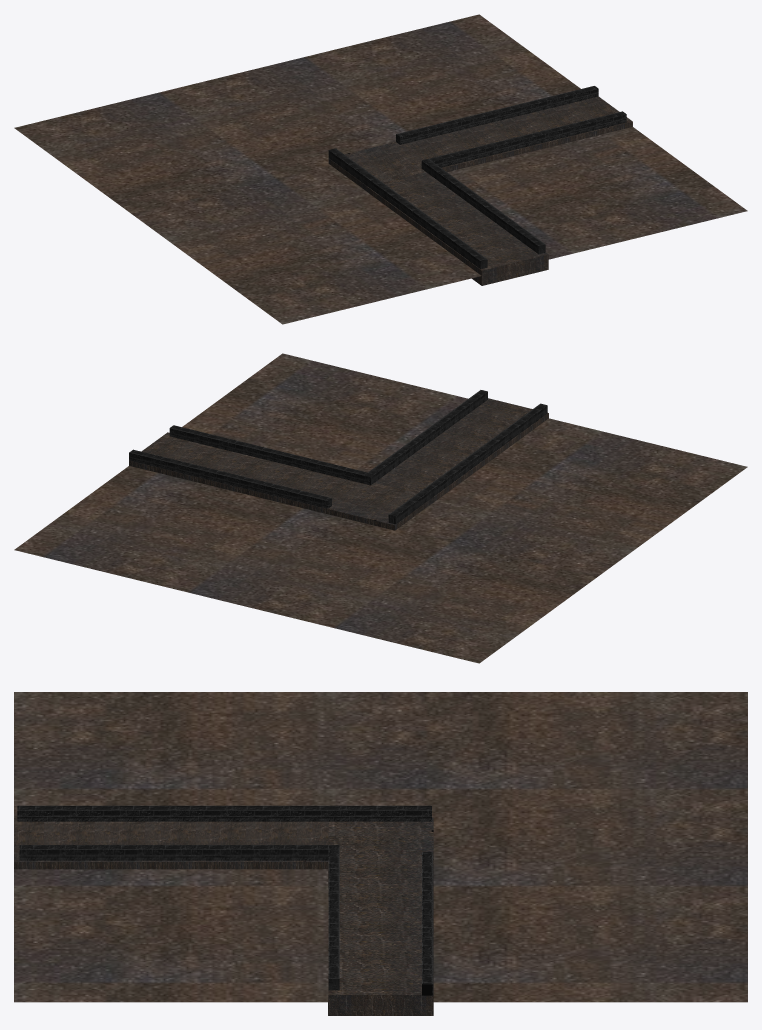
The model's file is left_tile.fbx.
3 views of the same model, one above another, from view 1: azimuth 30°, elevation 25°; view 2: azimuth 150°, elevation 25°; view 3: azimuth 270°, elevation 25° (orthographic). The views are drawn at different scales.
Visible parts, largest first — view 1: Plane.050, Cube.047, Cube.059, Cube.049, Cube.056, Cube.060, Cube.007; view 2: Plane.050, Cube.047, Cube.059, Cube.056, Cube.049, Cube.060, Cube.007; view 3: Plane.050, Cube.047, Cube.059, Cube.060, Cube.007, Cube.056, Cube.049.
Part boxes in pixels (x1,y1,x2,y2): Plane.050: [14, 14, 747, 324]; Cube.047: [328, 96, 632, 190]; Cube.059: [366, 172, 548, 285]; Cube.049: [396, 86, 598, 144]; Cube.056: [424, 111, 626, 167]; Cube.060: [328, 148, 487, 269]; Cube.007: [421, 159, 545, 254]; Plane.050: [14, 353, 747, 663]; Cube.047: [129, 432, 433, 530]; Cube.059: [374, 398, 548, 502]; Cube.056: [169, 425, 373, 484]; Cube.049: [129, 449, 331, 508]; Cube.060: [388, 403, 547, 524]; Cube.007: [365, 390, 487, 485]; Plane.050: [14, 692, 747, 1002]; Cube.047: [328, 817, 433, 1015]; Cube.059: [14, 817, 328, 869]; Cube.060: [17, 805, 431, 821]; Cube.007: [19, 845, 339, 860]; Cube.056: [328, 845, 339, 990]; Cube.049: [422, 852, 433, 995].
Bounding box in the file's own units: 6962 × 343 × 6962.
